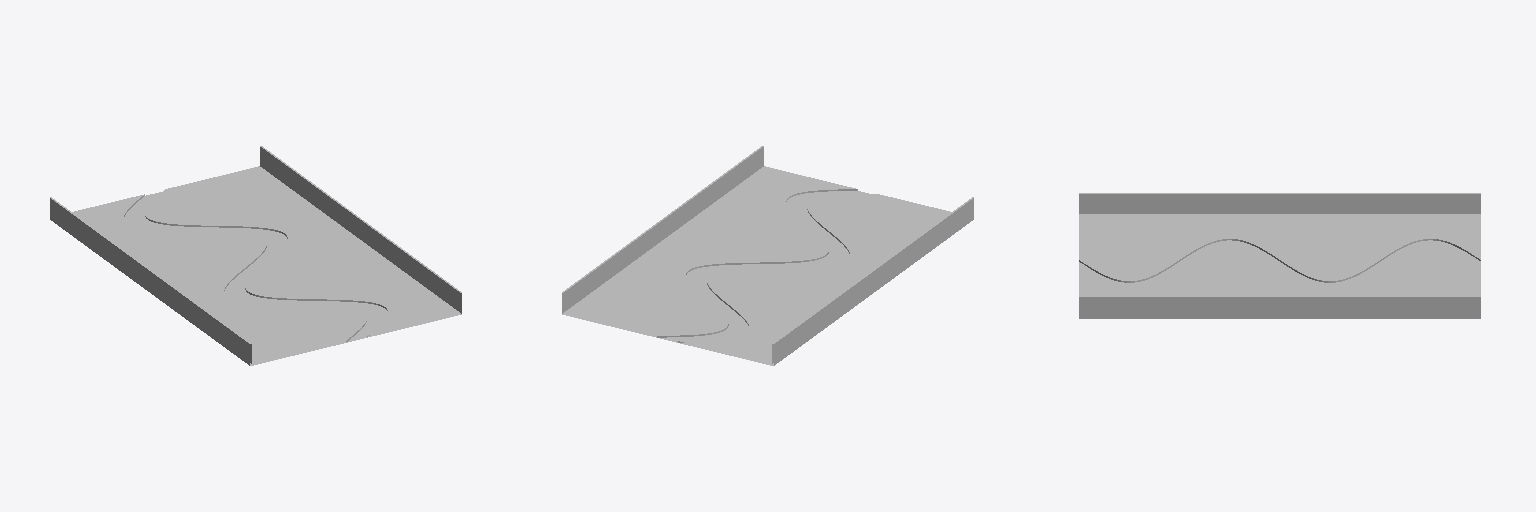
File: location1.obj
3 views of the same model, side by side, from view 1: azimuth 30°, elevation 25°; view 2: azimuth 150°, elevation 25°; view 3: azimuth 270°, elevation 25° (orthographic).
Parts seen in each view (by area): view 1: CleanForestPath; view 2: CleanForestPath; view 3: CleanForestPath.
Boxes of the visible parts, x1,y1,x2,y2 form: CleanForestPath: [50, 146, 461, 365]; CleanForestPath: [562, 146, 973, 365]; CleanForestPath: [1079, 193, 1480, 318].
Size of the model in its own units: 12.2 by 1.2 by 20.